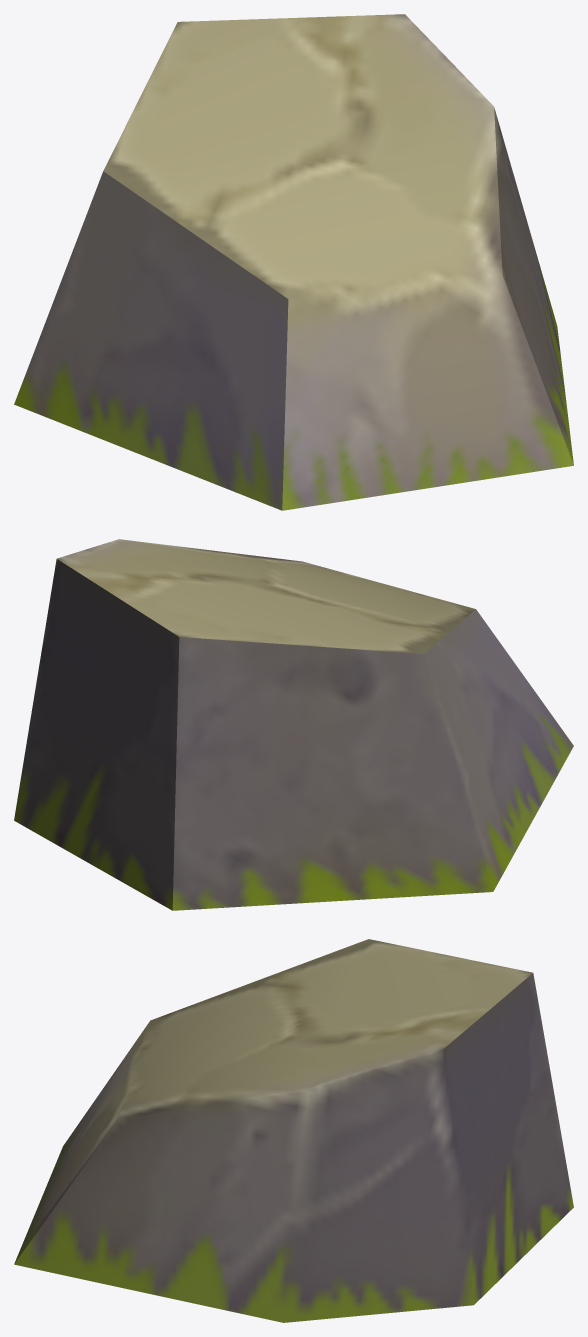
The model's file is scenes_construction_stone01b.FBX.
3 renders of one model, top to bottom at view 1: azimuth 30°, elevation 25°; view 2: azimuth 150°, elevation 25°; view 3: azimuth 270°, elevation 25°, orthographic. The views are drawn at different scales.
Visible parts, largest first — view 1: scenes_construction_stone01b; view 2: scenes_construction_stone01b; view 3: scenes_construction_stone01b.
Boxes of the visible parts, <box> form: scenes_construction_stone01b: <box>14,14,573,510</box>; scenes_construction_stone01b: <box>14,539,573,910</box>; scenes_construction_stone01b: <box>14,939,573,1322</box>.
Size of the model in its own units: 166 by 86.38 by 181.
